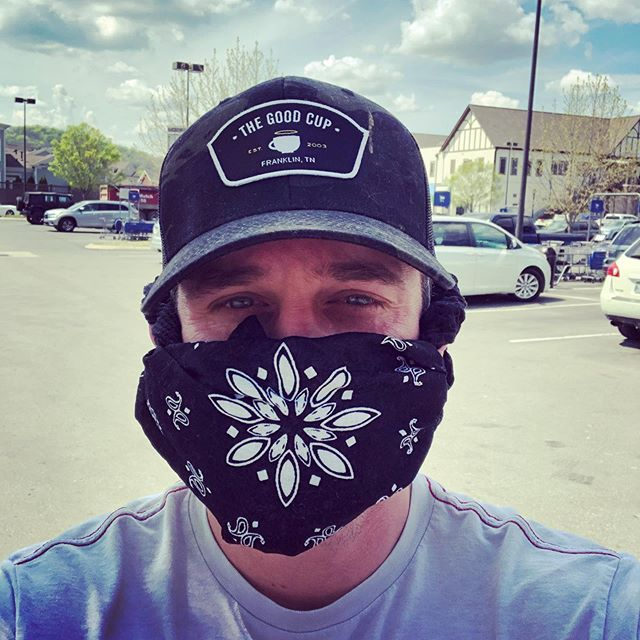homemade: (134, 312, 473, 563)
